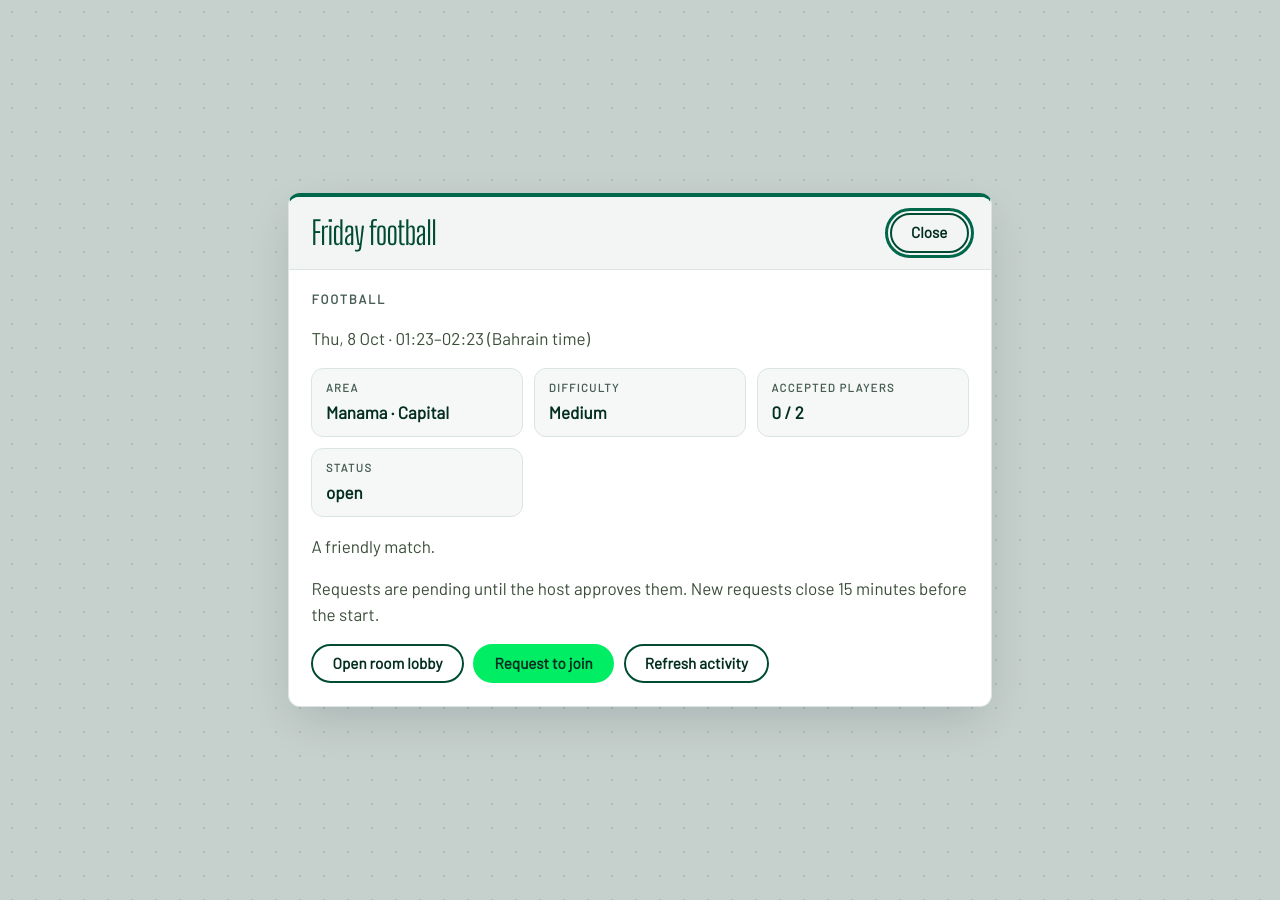
Test case: fresh membership decisions › refuses a stale request when the refreshed start is already inside the cutoff
Click the button "Request to join": (544, 664) [473, 644, 614, 684]
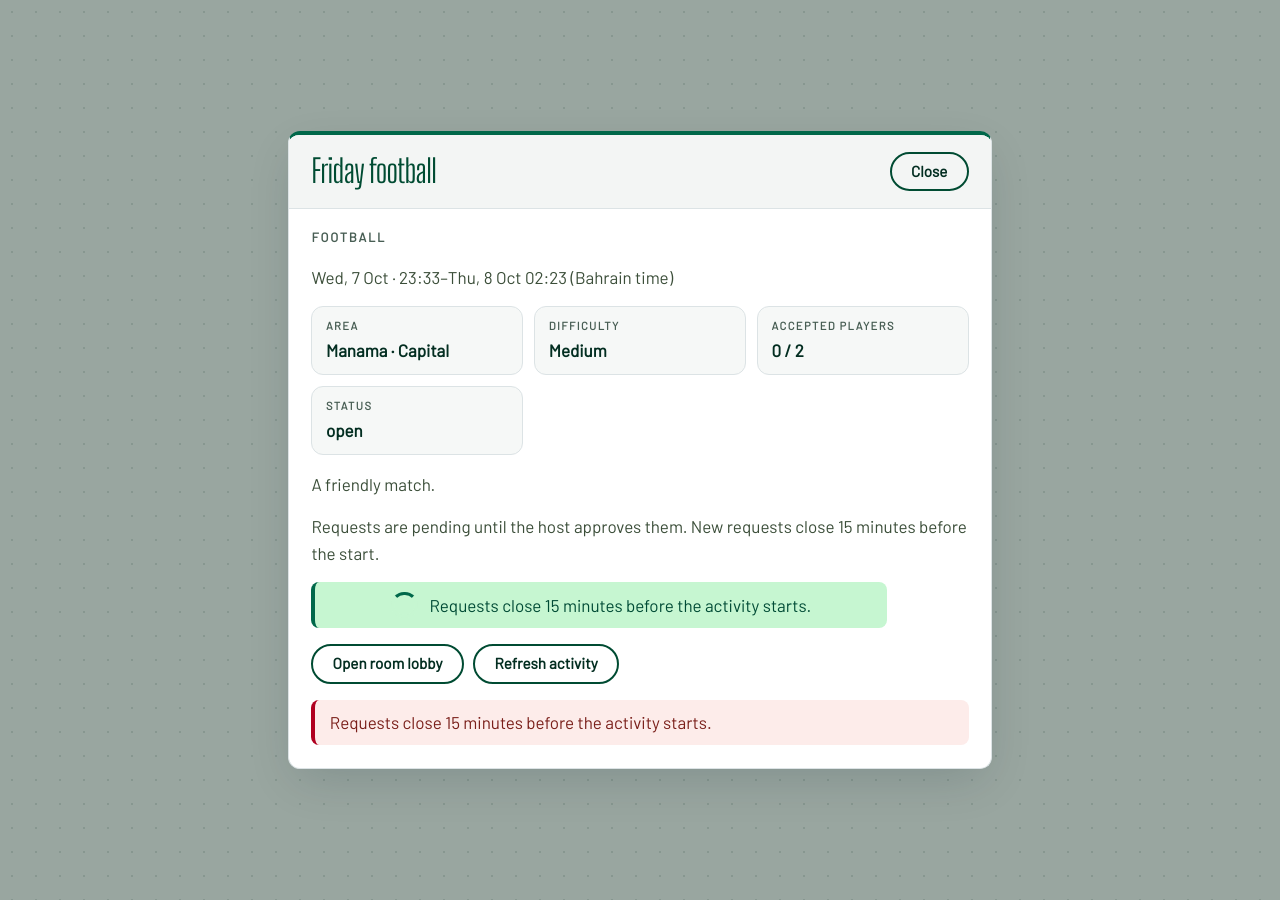
Expected: the 2nd message "Requests close 15 minutes before the activity starts." is shown, [311, 700, 969, 745]
Expected: the button "Request to join" is gone
